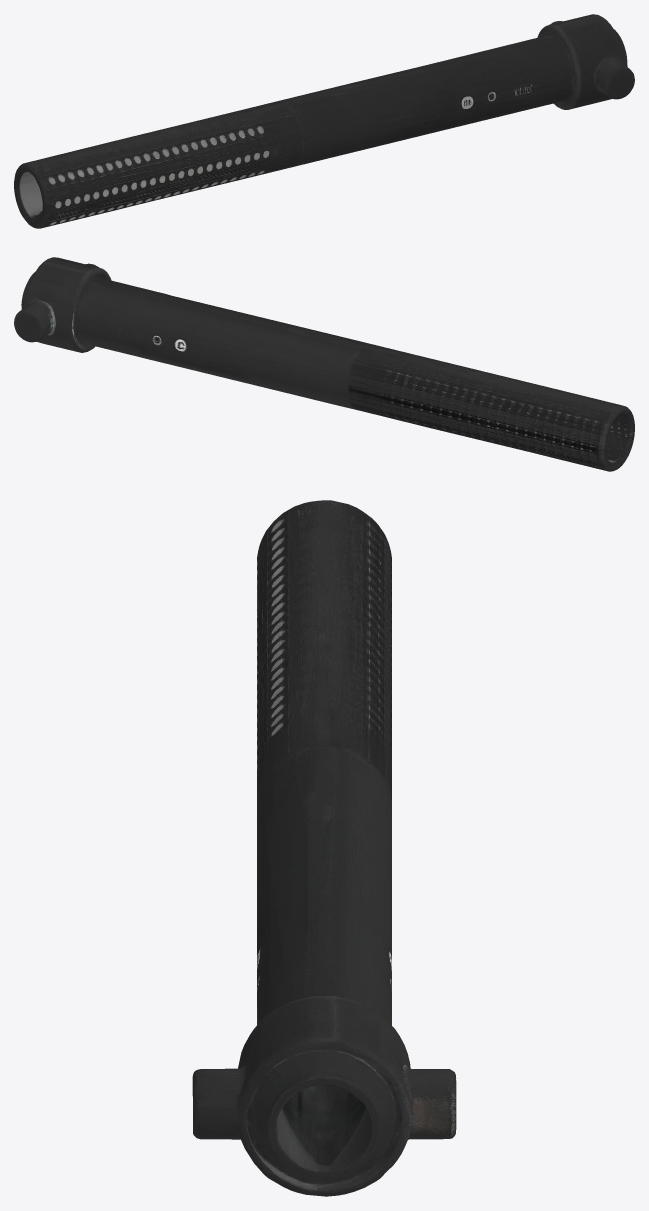
Rendered from mod_mag_tube.glb.
The picture shows the model from 3 angles, top to bottom: view 1: azimuth 30°, elevation 25°; view 2: azimuth 150°, elevation 25°; view 3: azimuth 270°, elevation 25°; orthographic projection. The views are drawn at different scales.
Size of the model in its own units: 1.9 by 0.2445 by 0.3706.
1 material, 1 textured.
